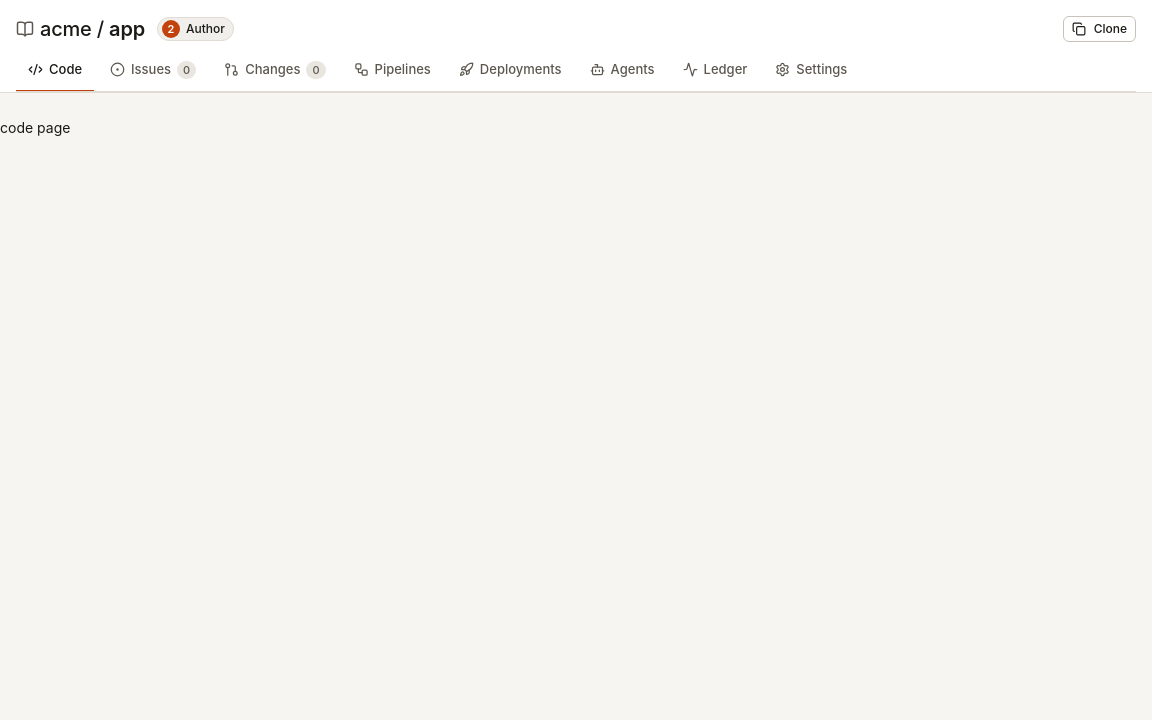
RepoLayout clone dialog follows the git transport mode › read-only: keeps the clone commands and says pushes go through ore save, with the reason
Click the button "Clone" at point(1099, 29), box [1063,16,1136,42]
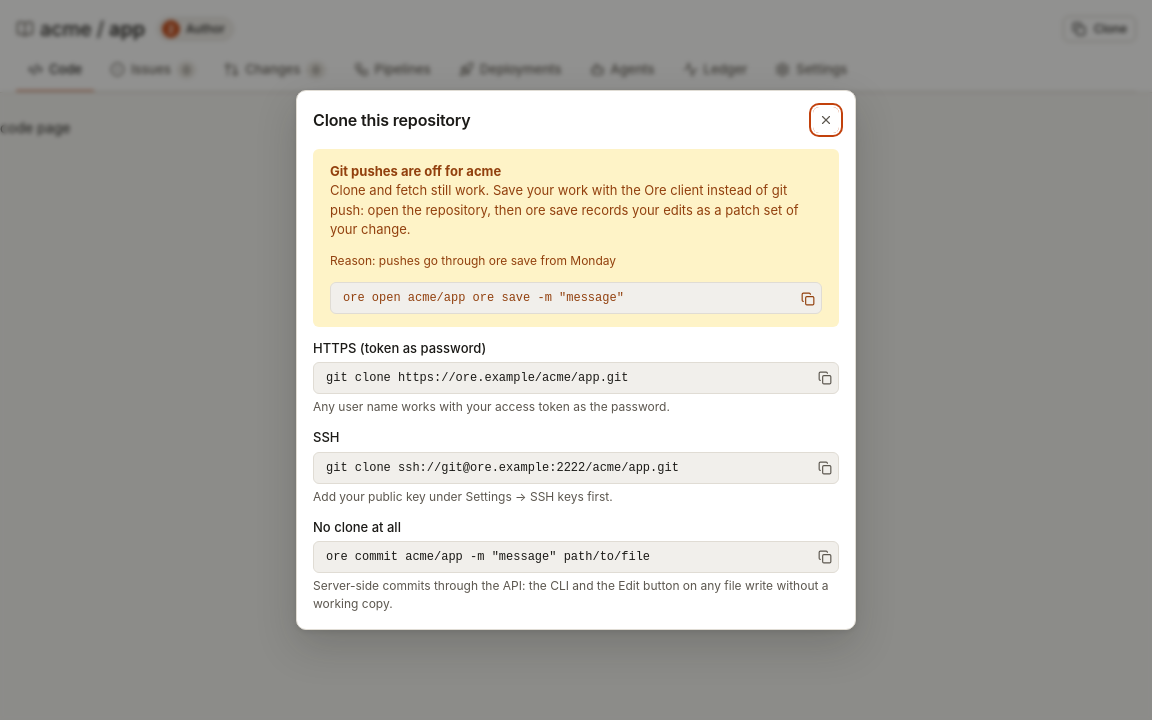
Expected: the text "git clone https://ore.example/acme/app.git" is shown, [326,371,628,385]
Expected: the text "Git pushes are off for acme" is shown, [330,163,501,179]
Expected: the text "Reason: pushes go through ore save from Monday" is shown, [330,253,616,268]
